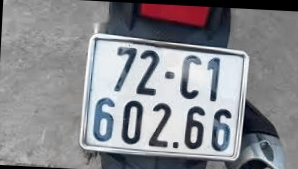Bien-so: (74, 34, 234, 160)
